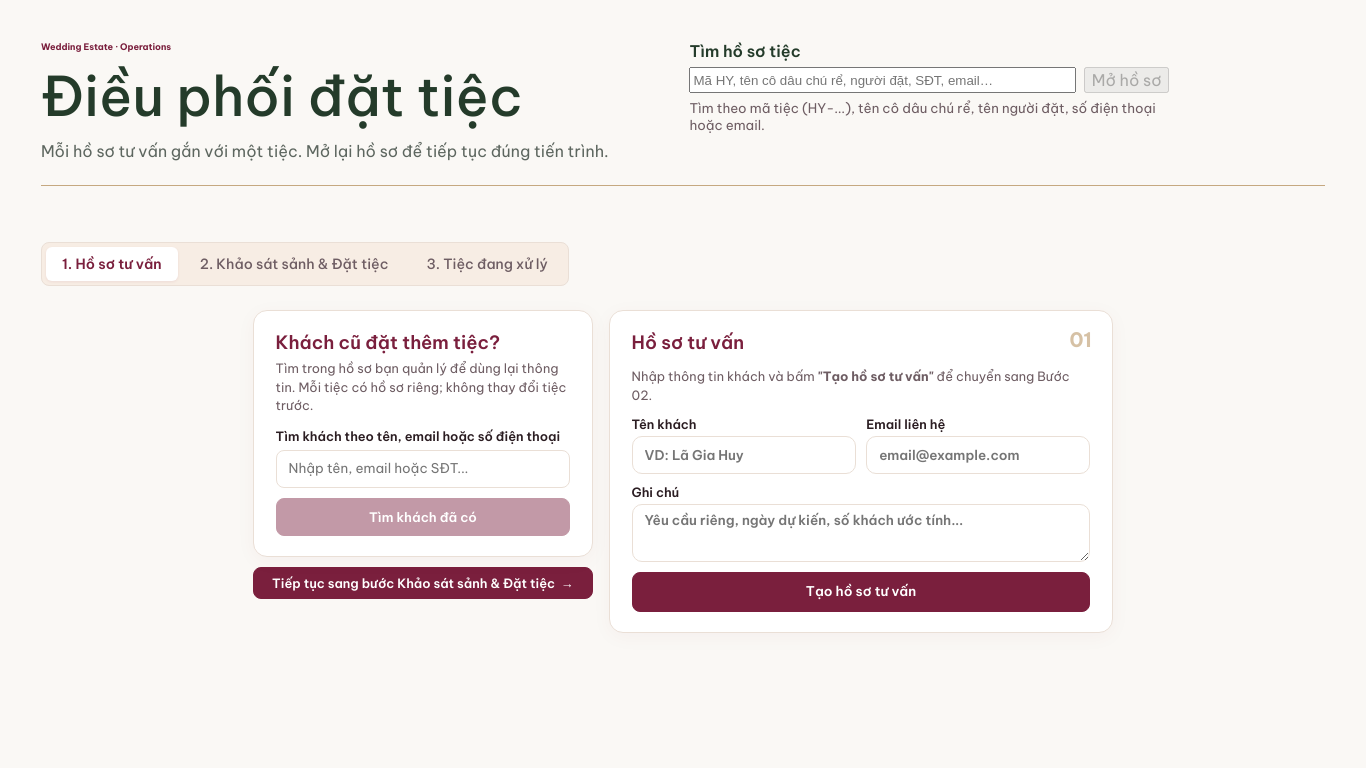
Scenario: Management booking lifecycle workspace › keeps a newly created consultation attached and prevents creating it again accidentally
Type "Minh & An" into the field labelled "Tên khách" at x=744, y=455, box [632,436,856,474]
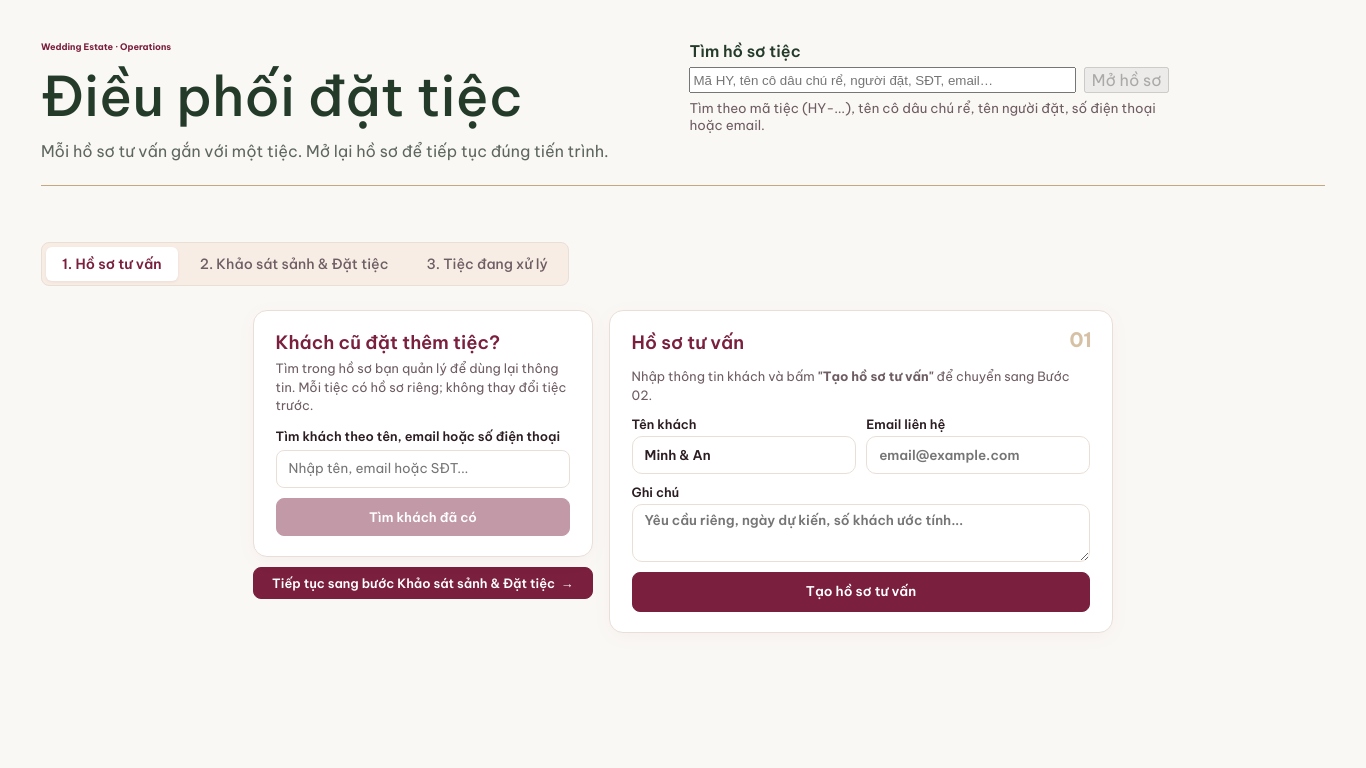
Type "couple@example.com" into the field labelled "Email liên hệ" at x=978, y=455, box [866,436,1090,474]
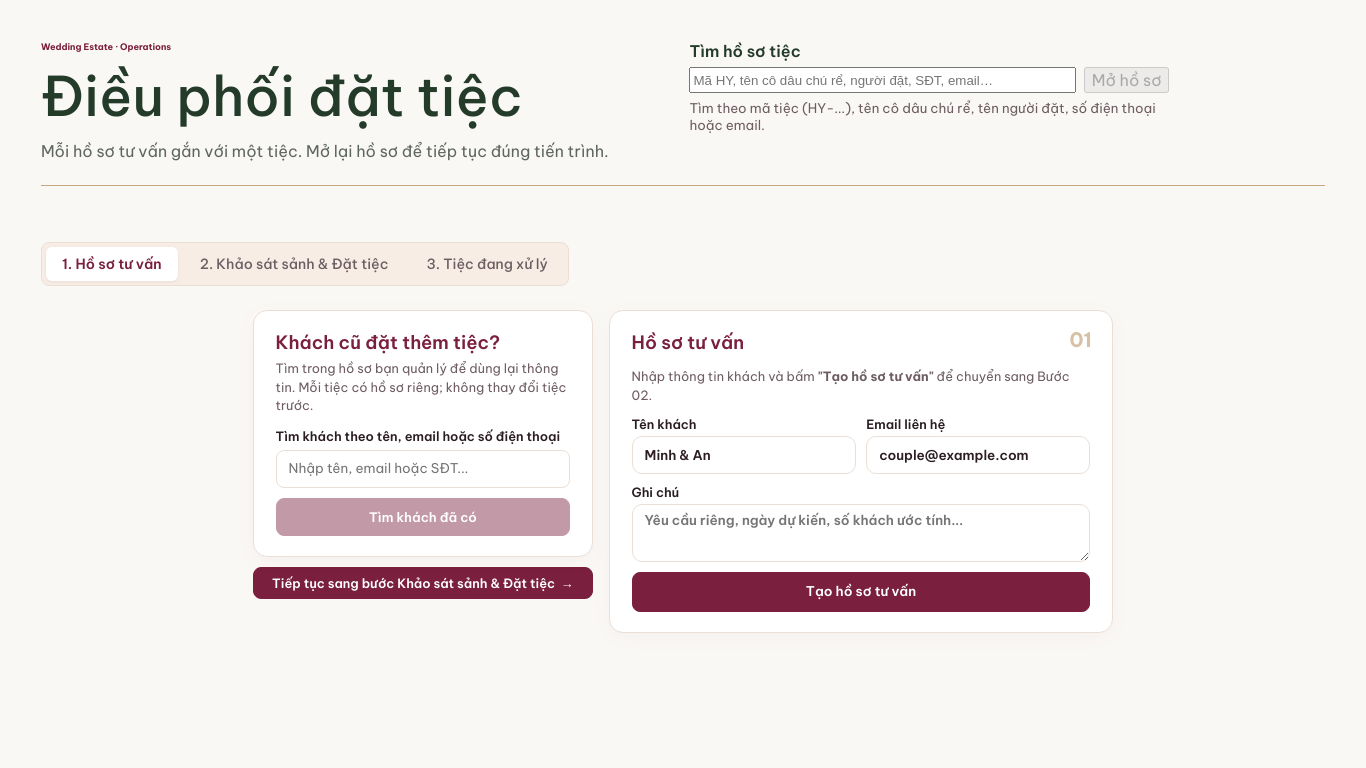
Type "Garden wedding" into the text box labelled "Ghi chú" at x=861, y=533, box [632,504,1090,562]
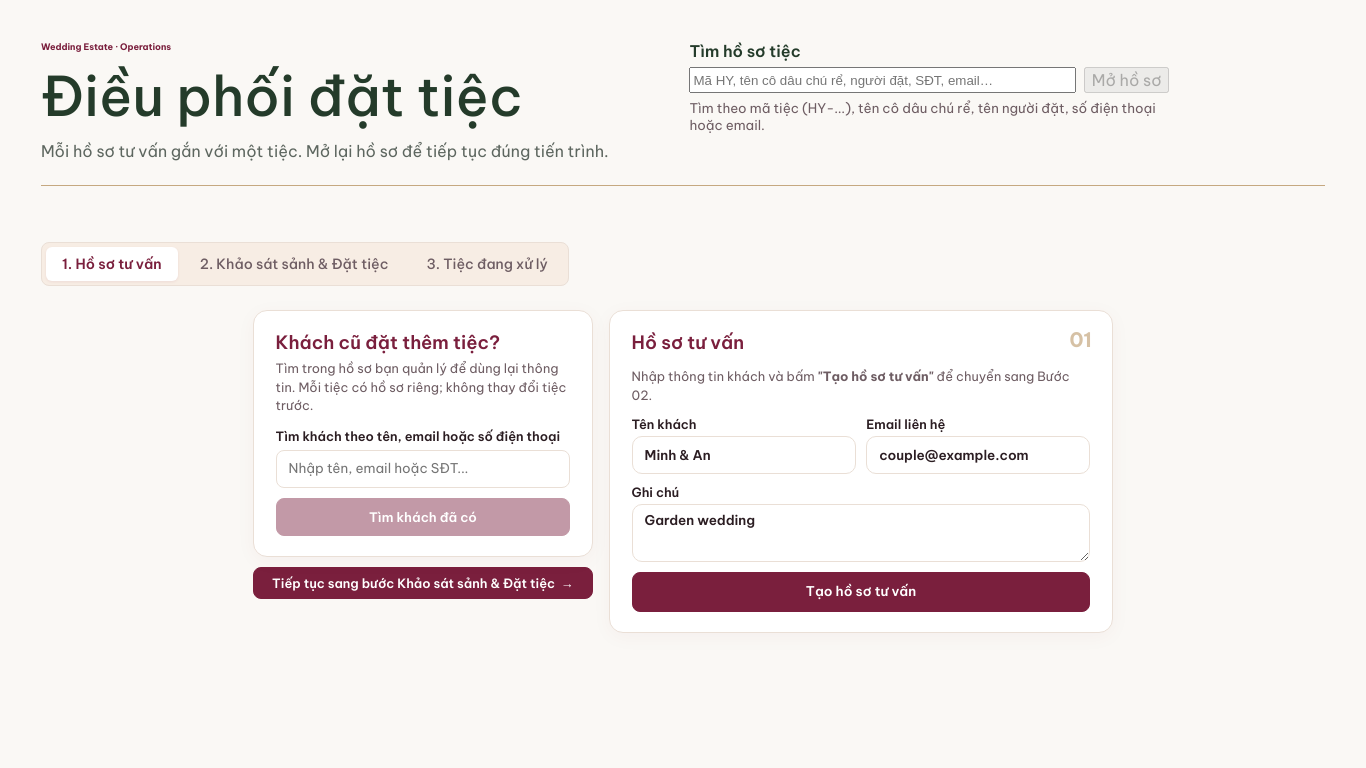
Click the button "Tạo hồ sơ tư vấn" at x=861, y=592, box [632,572,1090,612]
(page scrolled)
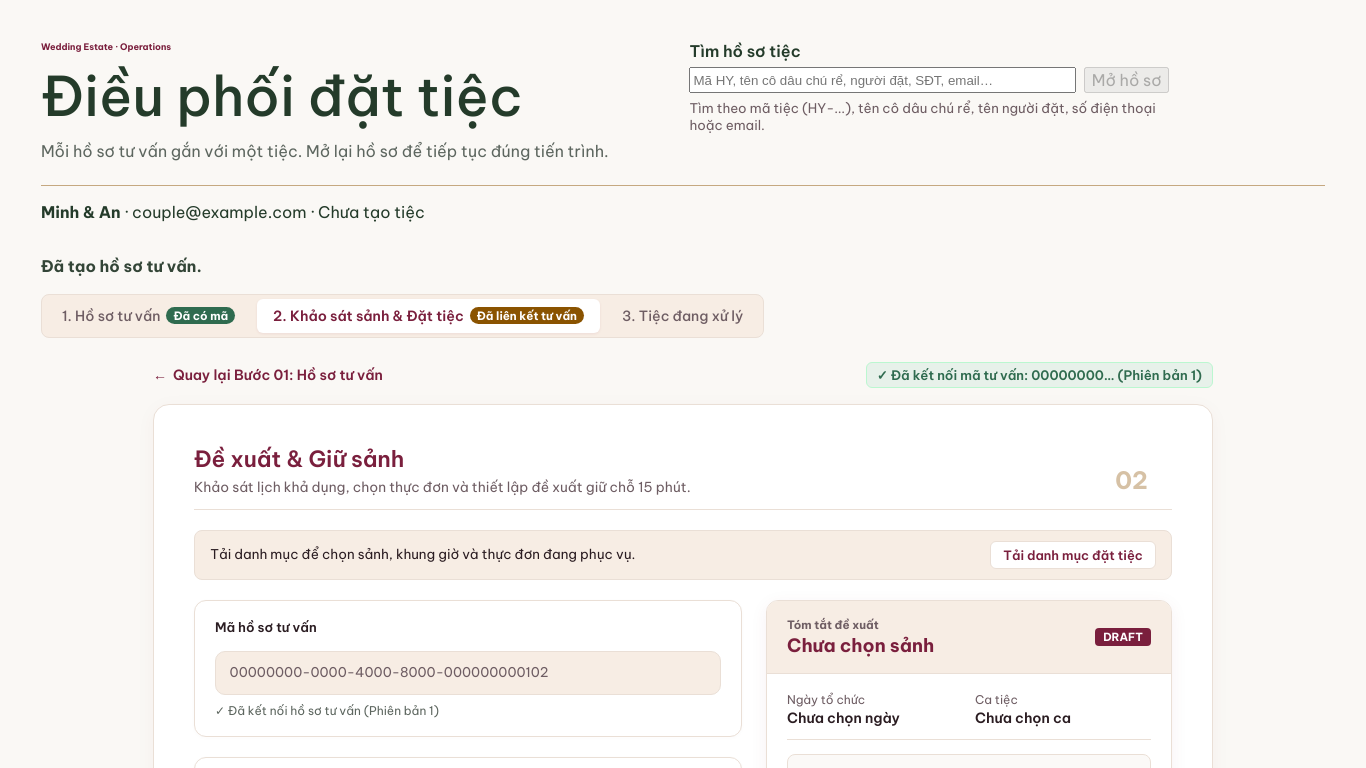
Expected: the text "Đã tạo hồ sơ tư vấn." is shown, [41,256,202,276]
Expected: the field labelled "Mã hồ sơ tư vấn" holds "00000000-0000-4000-8000-000000000102", [215,651,721,695]
